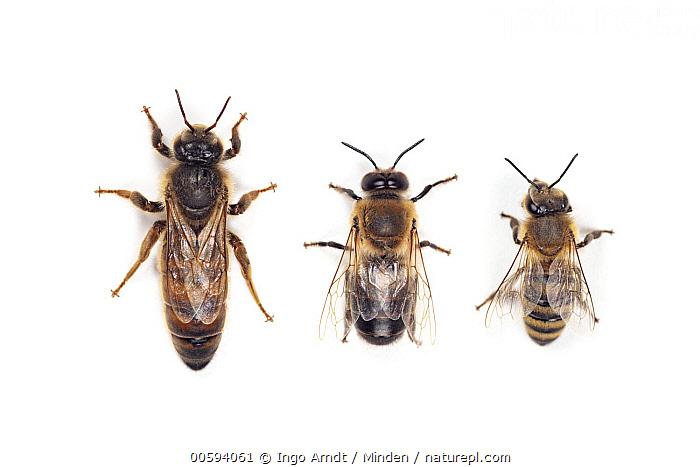Apis-mellifera-scutellata: (483, 113, 610, 362)
Lasioglossum: (94, 83, 290, 378)
Meliponula: (303, 94, 461, 389)
